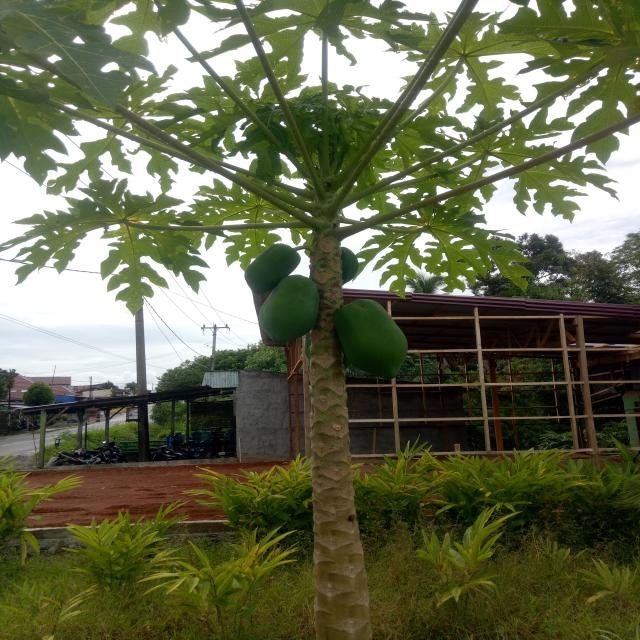Pepaya unrippen: (338, 302, 416, 382), (259, 286, 322, 354), (238, 248, 312, 292)
